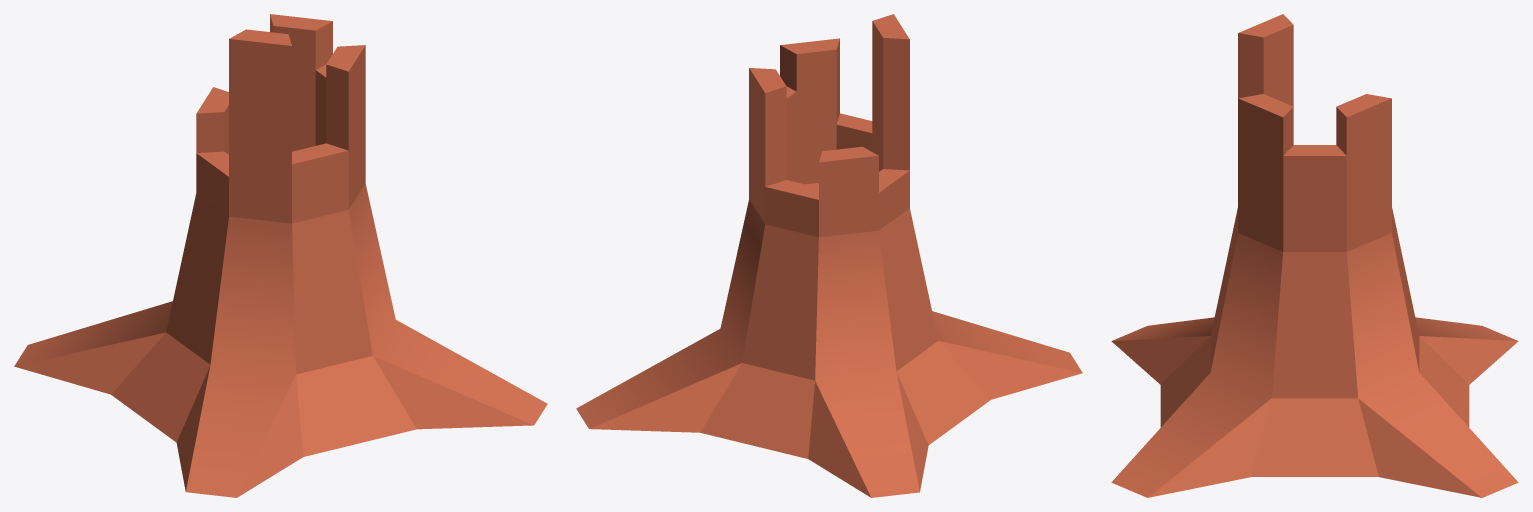
The model's file is Tree3.fbx.
3 views of the same model, side by side, from view 1: azimuth 30°, elevation 25°; view 2: azimuth 150°, elevation 25°; view 3: azimuth 270°, elevation 25° (orthographic). The views are drawn at different scales.
Parts seen in each view (by area): view 1: trunk_baseDetailed, trunk_topBroken; view 2: trunk_baseDetailed, trunk_topBroken; view 3: trunk_baseDetailed, trunk_topBroken.
Part boxes in pixels (x1,y1,x2,y2): trunk_baseDetailed: (14,183,547,497); trunk_topBroken: (196,14,365,223); trunk_baseDetailed: (576,183,1082,497); trunk_topBroken: (749,14,909,237); trunk_baseDetailed: (1111,208,1518,497); trunk_topBroken: (1238,14,1391,251).
Bounding box in the file's own units: 9.6 × 9.5 × 9.6.
